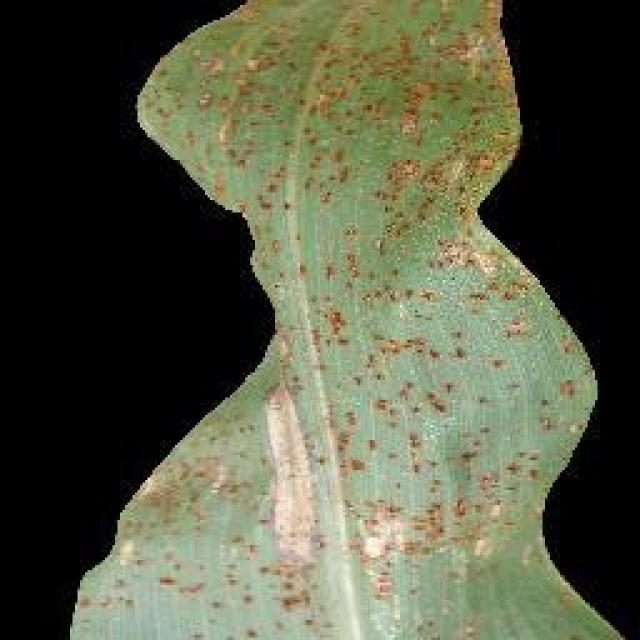Corn Common Rust: (215, 79, 580, 578)
